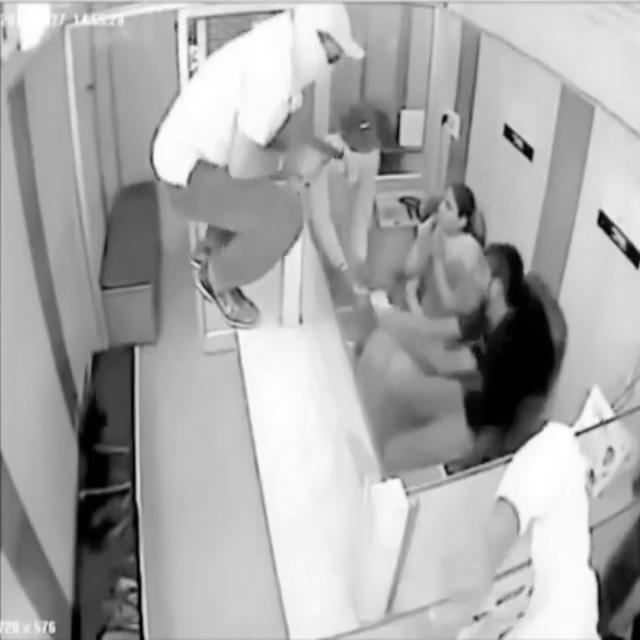Gun: (306, 133, 348, 177)
